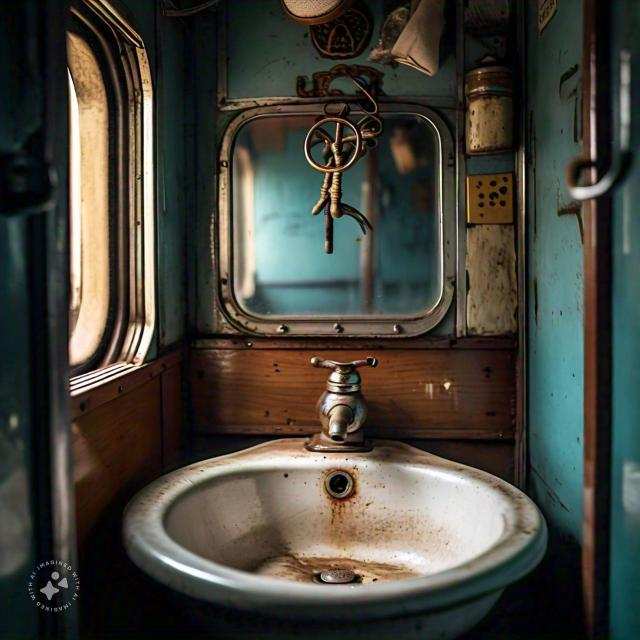Washbasin: (122, 283, 551, 640)
